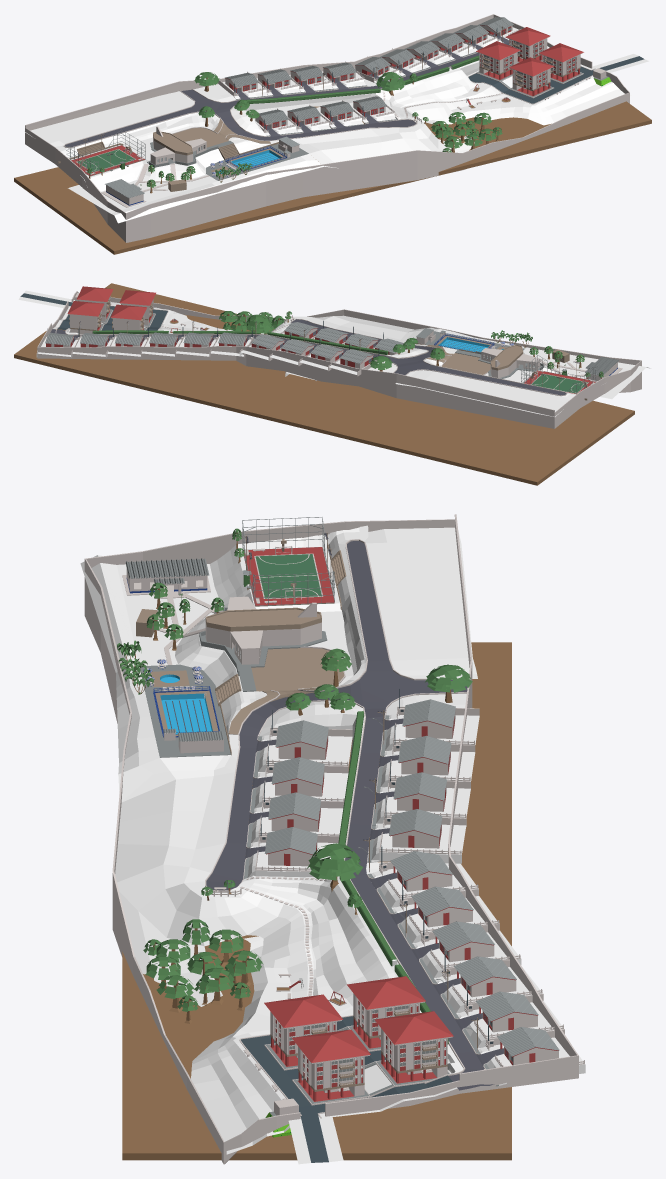
Rendered from santos_dumont_merged_clube_v3.gltf.
3 views of the same model, one above another, from view 1: azimuth 30°, elevation 25°; view 2: azimuth 150°, elevation 25°; view 3: azimuth 270°, elevation 25° (orthographic). The views are drawn at different scales.
Parts seen in each view (by area): view 1: muro, grama, Length-310m, rua, clube-upper, clube-lower-plane, preio-telhado (×4), cerca-casa (×5), rua.002, quadra, cerca-viva, estacionamento (+6 smaller); view 2: Length-310m, muro, rua, grama, preio-telhado (×4), clube-lower-plane, rua.002, cerca-viva, quadra, estacionamento, clube-upper, guia (+6 smaller); view 3: grama, Length-310m, rua, cerca-casa (×14), muro, roof.001 (×14), clube-upper, clube-lower-plane, preio-telhado (×4), rua.002, quadra, rua.003 (+10 smaller).
Part boxes in pixels (x1,y1,x2,y2): muro: [25, 14, 629, 242]; grama: [231, 60, 631, 168]; Length-310m: [14, 101, 651, 254]; rua: [24, 79, 416, 147]; clube-upper: [55, 112, 270, 191]; clube-lower-plane: [68, 154, 323, 223]; preio-telhado (×4): [476, 27, 583, 76]; cerca-casa (×5): [218, 80, 397, 136]; rua.002: [468, 46, 648, 103]; quadra: [71, 145, 144, 175]; cerca-viva: [245, 55, 479, 103]; estacionamento: [172, 119, 237, 147]; Length-310m: [14, 283, 634, 485]; muro: [37, 291, 641, 428]; rua: [259, 319, 569, 416]; grama: [66, 302, 430, 357]; preio-telhado (×4): [67, 286, 155, 320]; clube-lower-plane: [429, 327, 650, 399]; rua.002: [18, 290, 167, 330]; cerca-viva: [92, 330, 388, 354]; quadra: [524, 370, 596, 394]; estacionamento: [426, 352, 490, 374]; clube-upper: [424, 346, 605, 399]; guia: [405, 358, 567, 396]; grama: [115, 701, 462, 1154]; Length-310m: [122, 642, 511, 1160]; rua: [206, 527, 477, 890]; cerca-casa (×14): [243, 706, 585, 1086]; muro: [84, 514, 578, 1164]; roof.001 (×14): [264, 699, 559, 1056]; clube-upper: [175, 525, 368, 734]; clube-lower-plane: [80, 555, 228, 774]; preio-telhado (×4): [264, 976, 453, 1063]; rua.002: [241, 1016, 457, 1164]; quadra: [244, 547, 334, 605]; rua.003: [350, 875, 494, 1090].
Size of the model in its own units: 341 by 44.59 by 130.
14 materials, 1 textured.
